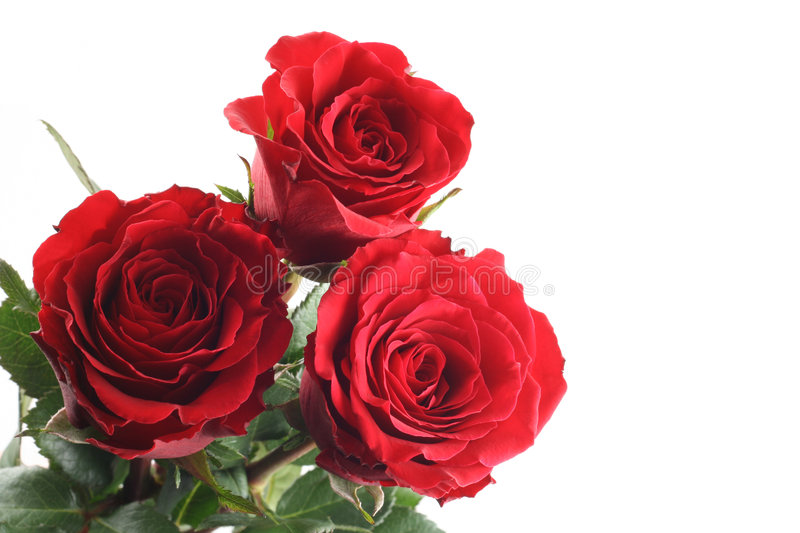RedRose: (27, 154, 296, 482), (285, 237, 597, 502), (224, 16, 490, 254)
